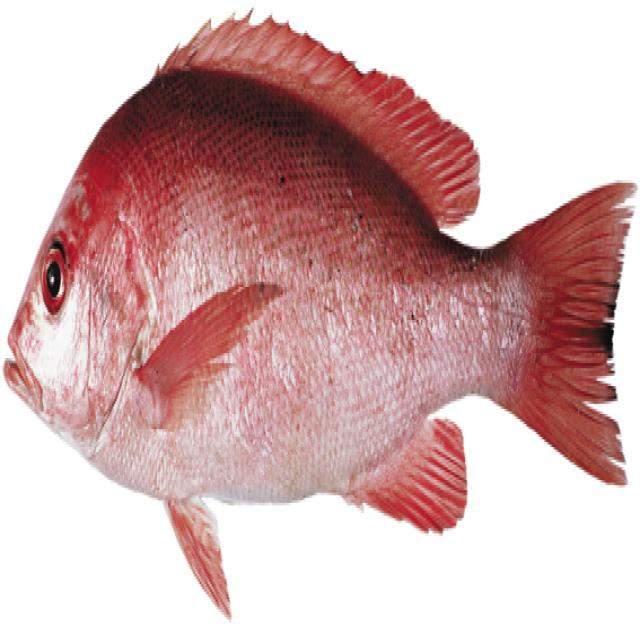ikan: (3, 5, 636, 620)
